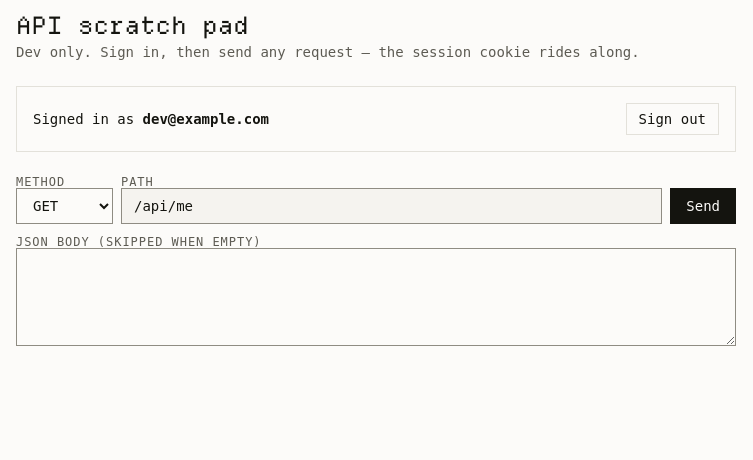
Test: omits the body when the textarea is empty
Click the button "Send" at {"x": 703, "y": 206}, box [670,188,736,224]
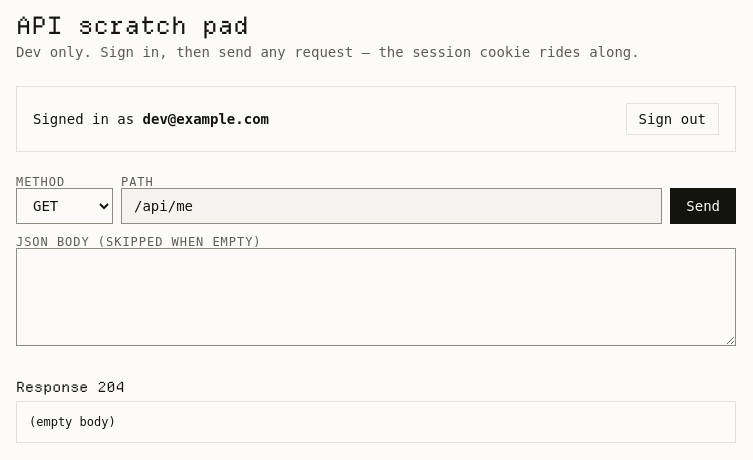
Now the heading "Response 204" is shown, box [16,378,125,396]
Now the text "(empty body)" is shown, box [16,401,736,443]
